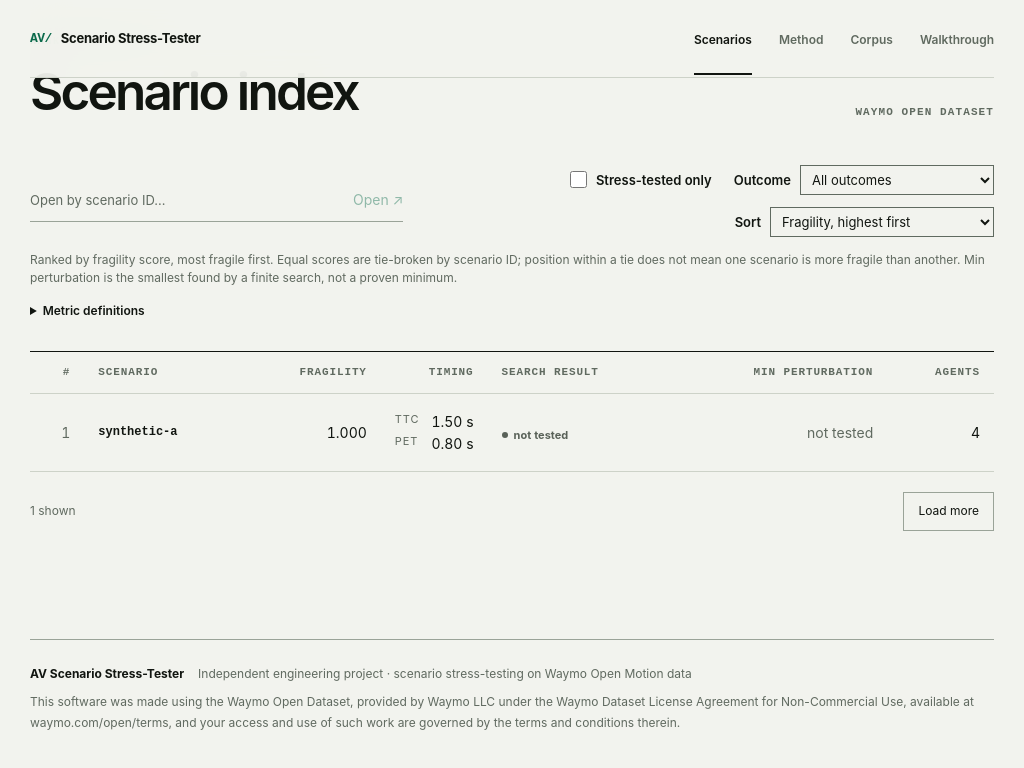
ScenarioListPage — states › keeps loaded rows when a later page fails
(page scrolled)
Expected: the link "synthetic-a" is shown, 98,425 -> 178,439
Click the button "Load more": x=949, y=512 903,492 -> 994,531
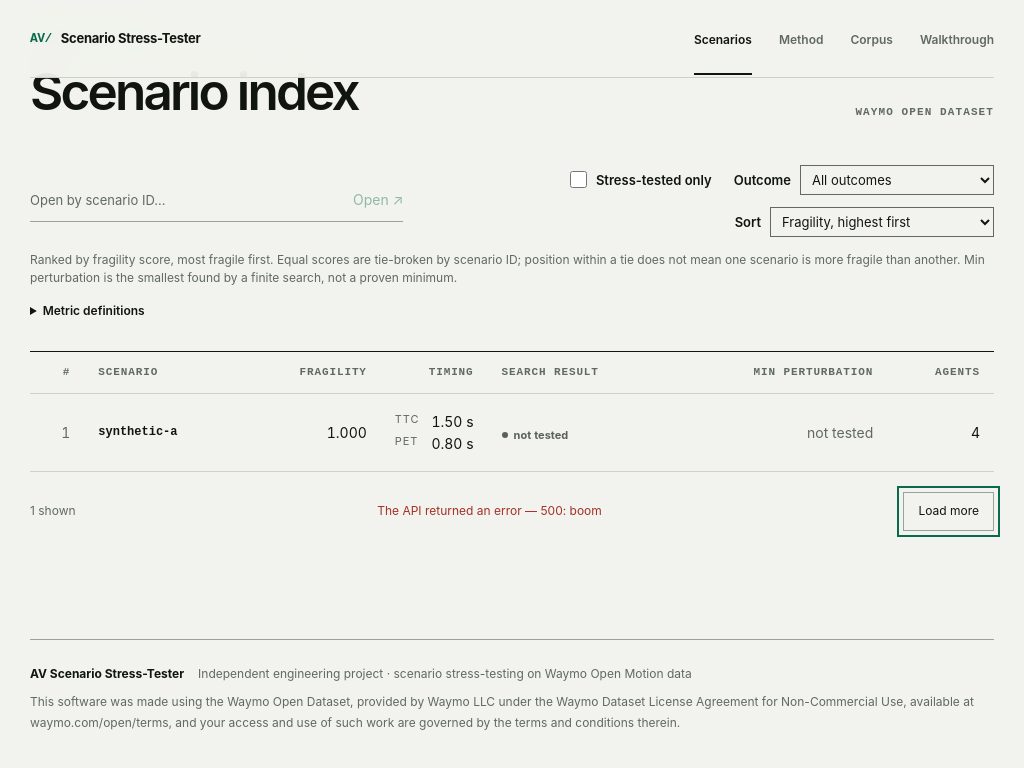
Now the message shows "500: boom", box 377,503 -> 602,518
